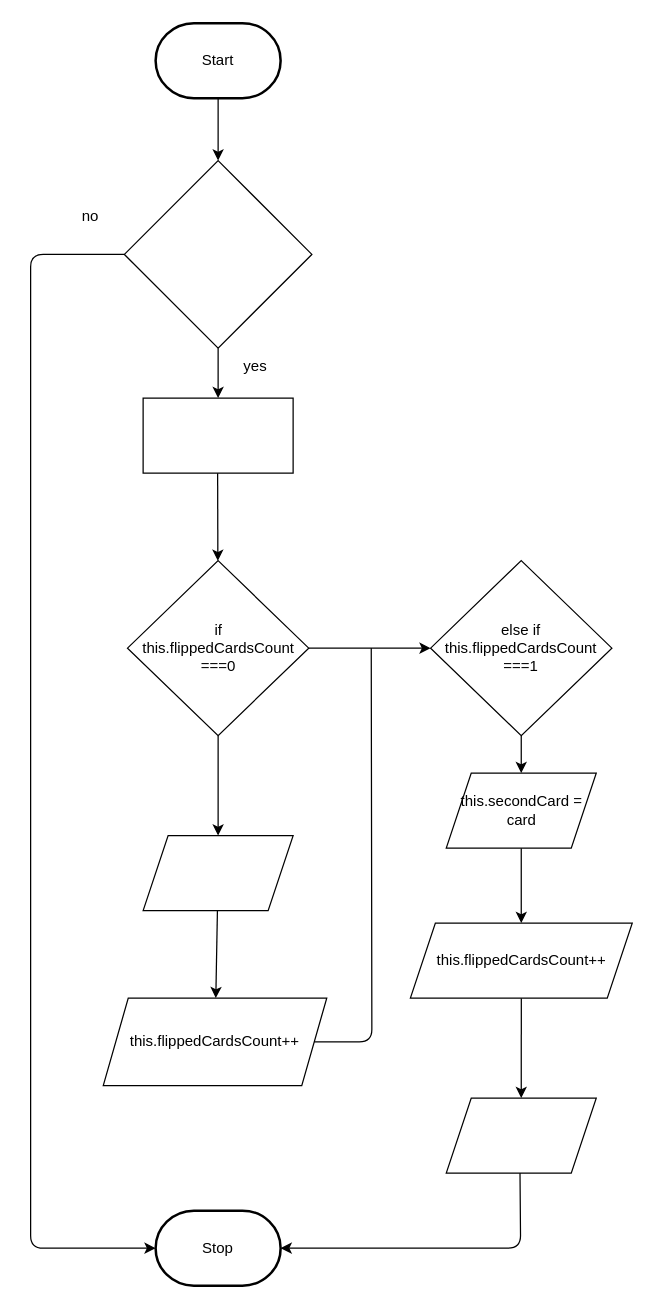
The diagram is 655 pixels wide and 1308 high, and some of its shapes have lost their labels. The shapes that lost their labels are listed below. From the top down, each one's centre as x and y in pixels, then its label:
the point at 217,253: if this.canFlip ll !card.isFlipped ll !card.isMatched
the point at 217,435: show the card's face set card.isFlipped to true
the point at 217,872: this.firstCard = card
the point at 520,1135: this.canFlip = false
